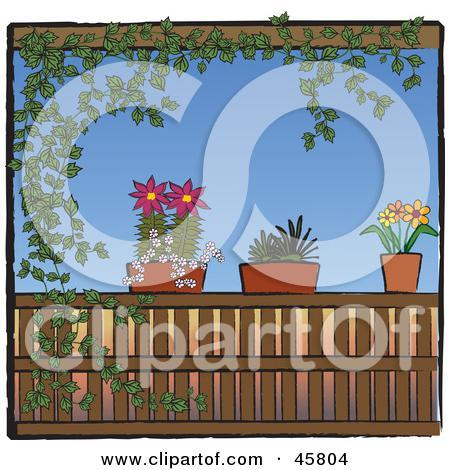pottedplant: (115, 175, 215, 291), (356, 198, 439, 294), (233, 212, 328, 293)
